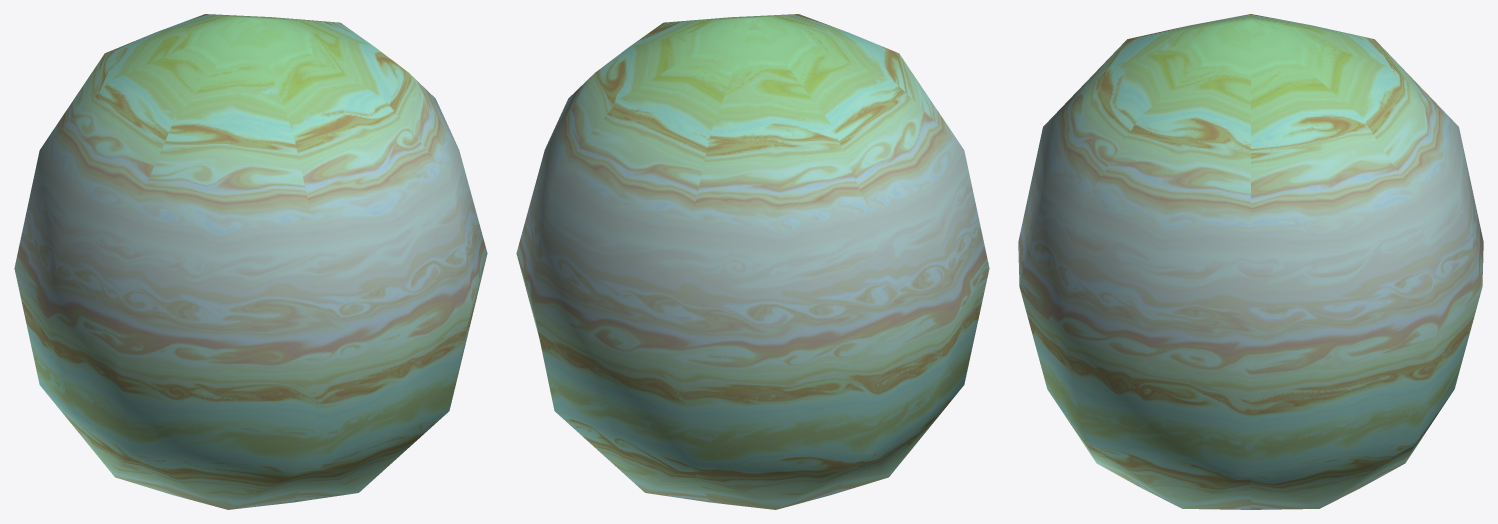
Rendered from Planet8.fbx.
The picture shows the model from 3 angles, left to right: view 1: azimuth 30°, elevation 25°; view 2: azimuth 150°, elevation 25°; view 3: azimuth 270°, elevation 25°; orthographic projection.
Visible parts, largest first — view 1: pasted__pSphere3; view 2: pasted__pSphere3; view 3: pasted__pSphere3.
Part boxes in pixels (x1,y1,x2,y2): pasted__pSphere3: [14, 14, 487, 509]; pasted__pSphere3: [516, 14, 989, 509]; pasted__pSphere3: [1018, 14, 1483, 509].
Size of the model in its own units: 1.56 by 1.76 by 1.53.
Materials: 1 (1 with a texture image).
